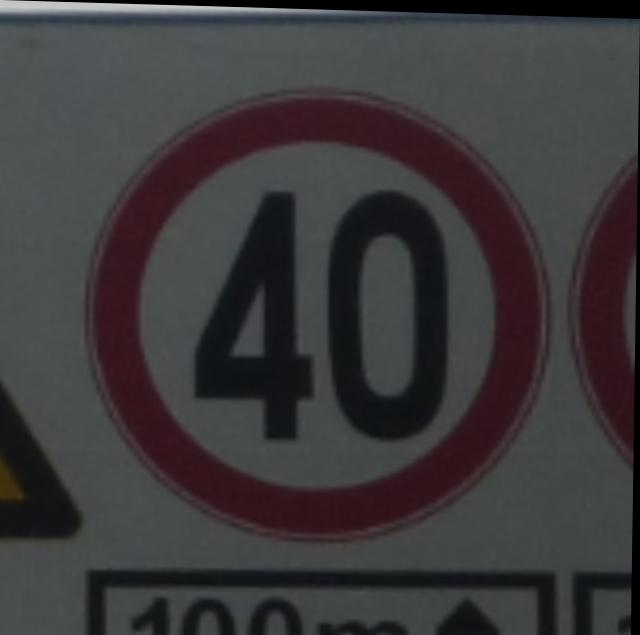limit40: (76, 71, 561, 552)
